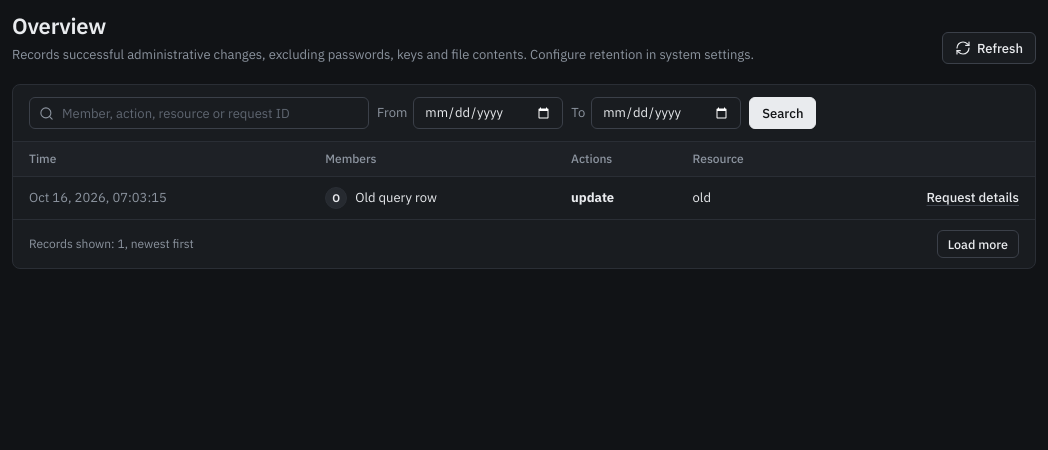
Test: does not append a failed audit query to results from an older filter
The image size is (1048, 450).
Expected: the text "Old query row" is shown, [355,189,437,206]
In the field named "Search audit log": (199, 113) [29,97,369,129], type "new filter"
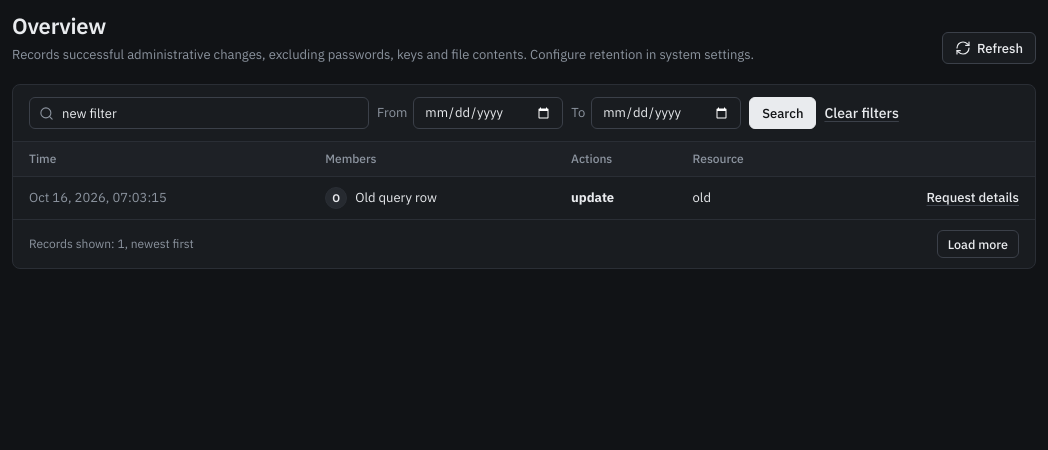
Submit the form named "Search audit log", box [13,85,1035,142]
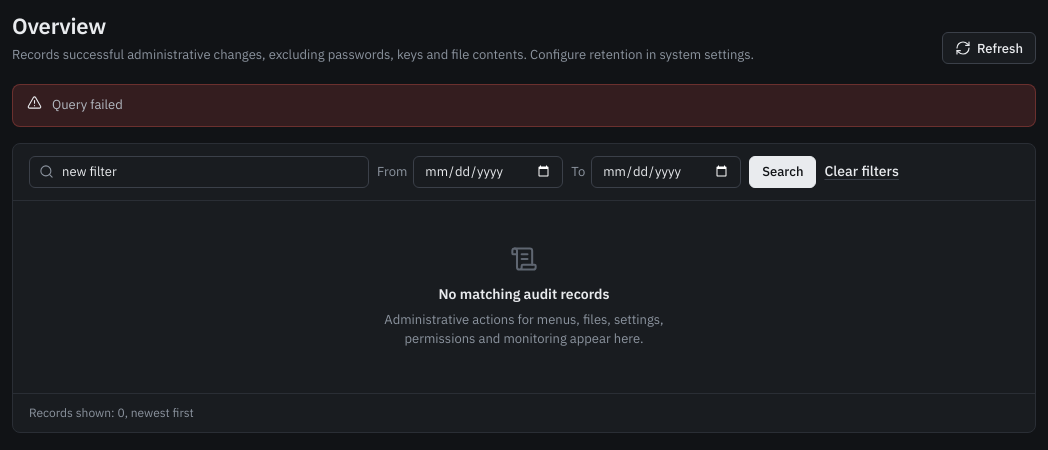
Expected: the text "Query failed" is shown, [52,96,123,113]
Expected: the text "Old query row" is gone
Expected: the button "Load more" is gone
